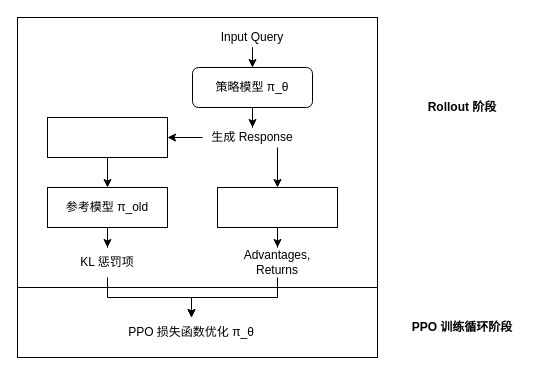
Image size: 555x375. Some labels were removed from this diagram. Each missing label, with the centre of its shape:
"价值模型 V(s) GAE估计" belongs at point 277,207.
"奖励模型 r(s, a)" belongs at point 107,137.
